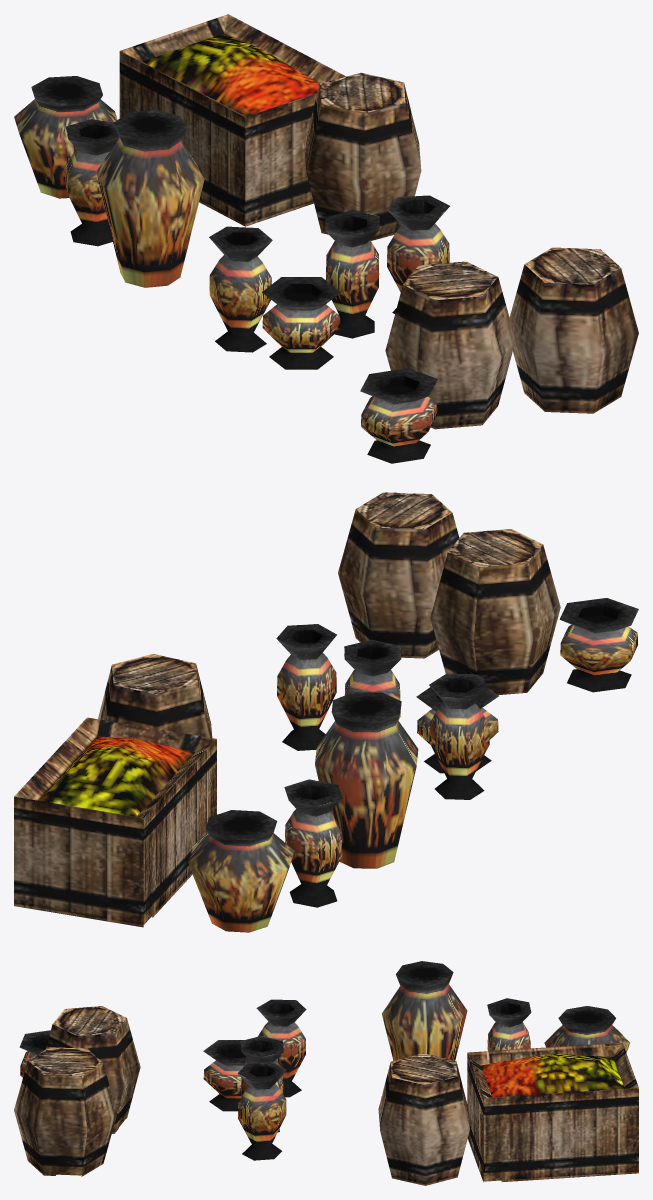
File: kyrenia_cargo.dae
3 renders of one model, top to bottom at view 1: azimuth 30°, elevation 25°; view 2: azimuth 150°, elevation 25°; view 3: azimuth 270°, elevation 25°, orthographic. The views are drawn at different scales.
Parts seen in each view (by area): view 1: Object02; view 2: Object02; view 3: Object02.
Boxes of the visible parts, x1,y1,x2,y2 form: Object02: (14,14,638,463); Object02: (14,492,638,932); Object02: (14,961,638,1185).
Size of the model in its own units: 4.79 by 2.18 by 10.48.
